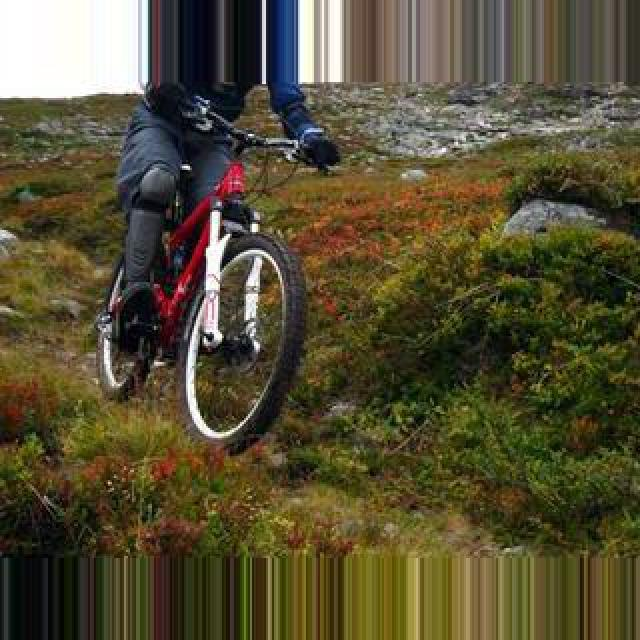Person: (91, 118, 309, 446)
